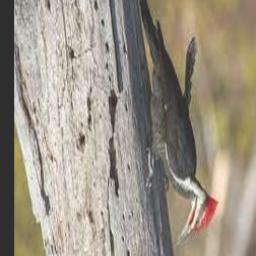Woodpecker: (135, 0, 218, 249)
